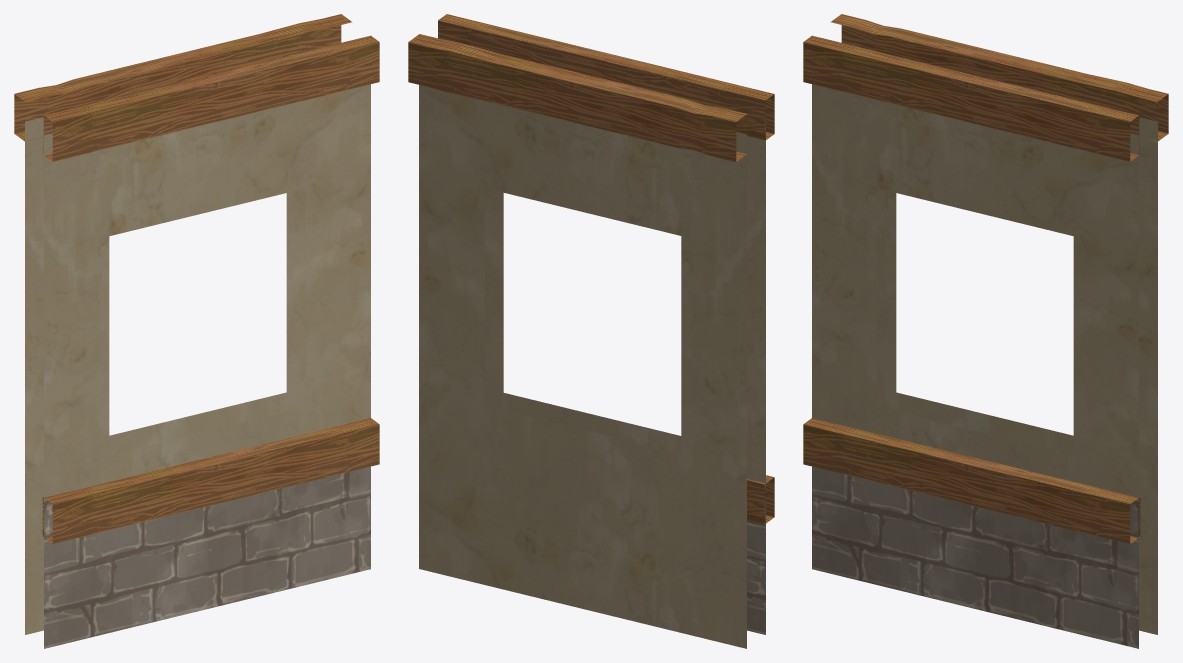
File: Wall_Plaster_Window_Wide_Flat.gltf
The picture shows the model from 3 angles, left to right: view 1: azimuth 30°, elevation 25°; view 2: azimuth 150°, elevation 25°; view 3: azimuth 330°, elevation 25°; orthographic projection.
Visible parts, largest first — view 1: Wall_Plaster_Window_Wide_Flat; view 2: Wall_Plaster_Window_Wide_Flat; view 3: Wall_Plaster_Window_Wide_Flat.
Part boxes in pixels (x1=…): Wall_Plaster_Window_Wide_Flat: x1=14, y1=14, x2=379, y2=648; Wall_Plaster_Window_Wide_Flat: x1=408, y1=14, x2=774, y2=648; Wall_Plaster_Window_Wide_Flat: x1=803, y1=14, x2=1168, y2=648.
Bounding box in the file's own units: 2 × 3.12 × 0.4065.
Materials: 3 (3 with a texture image).
